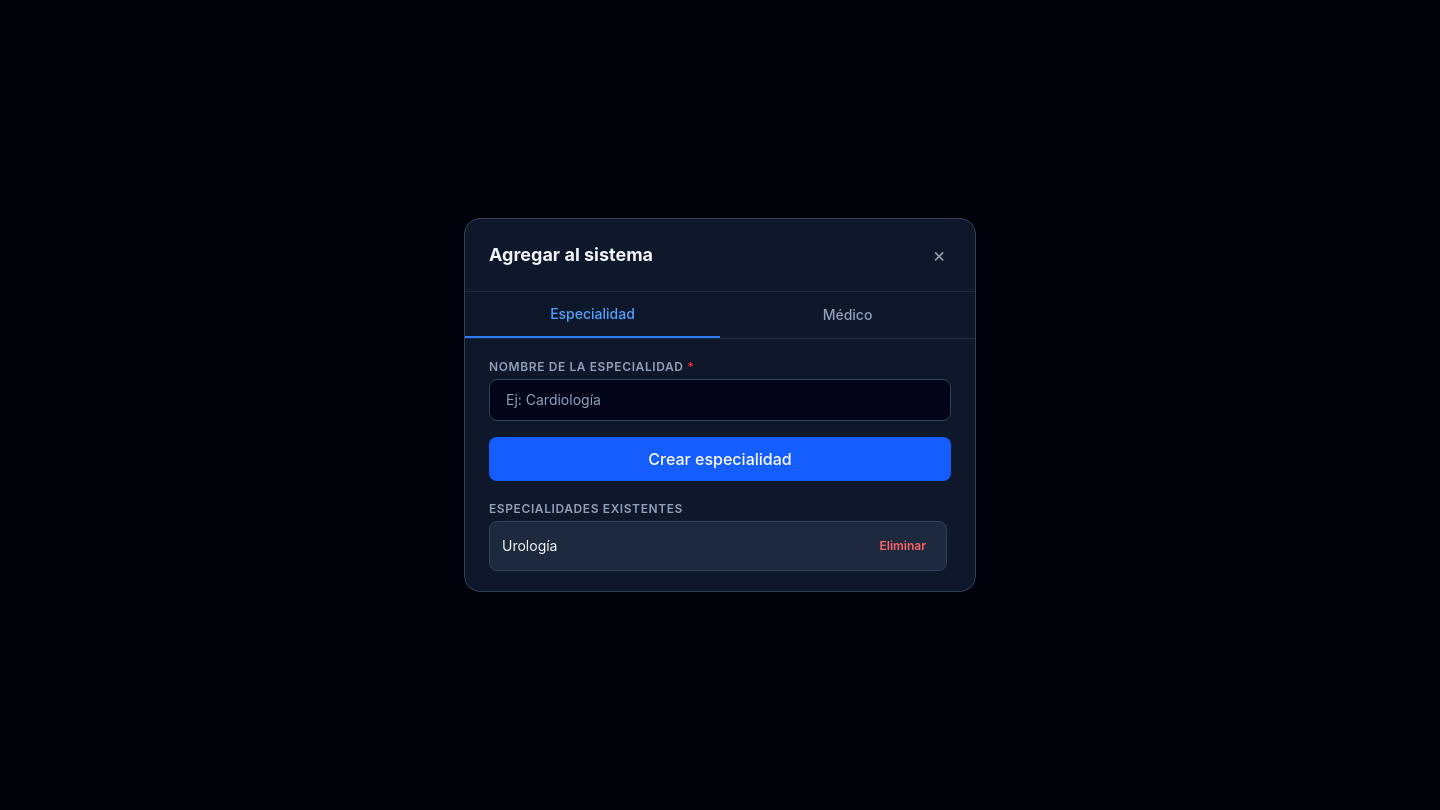
Test: alta de especialidades › un solo médico afectado se redacta en singular
This screenshot has width=1440, height=810.
Click the button "Eliminar": (903, 546) [872, 530, 934, 562]
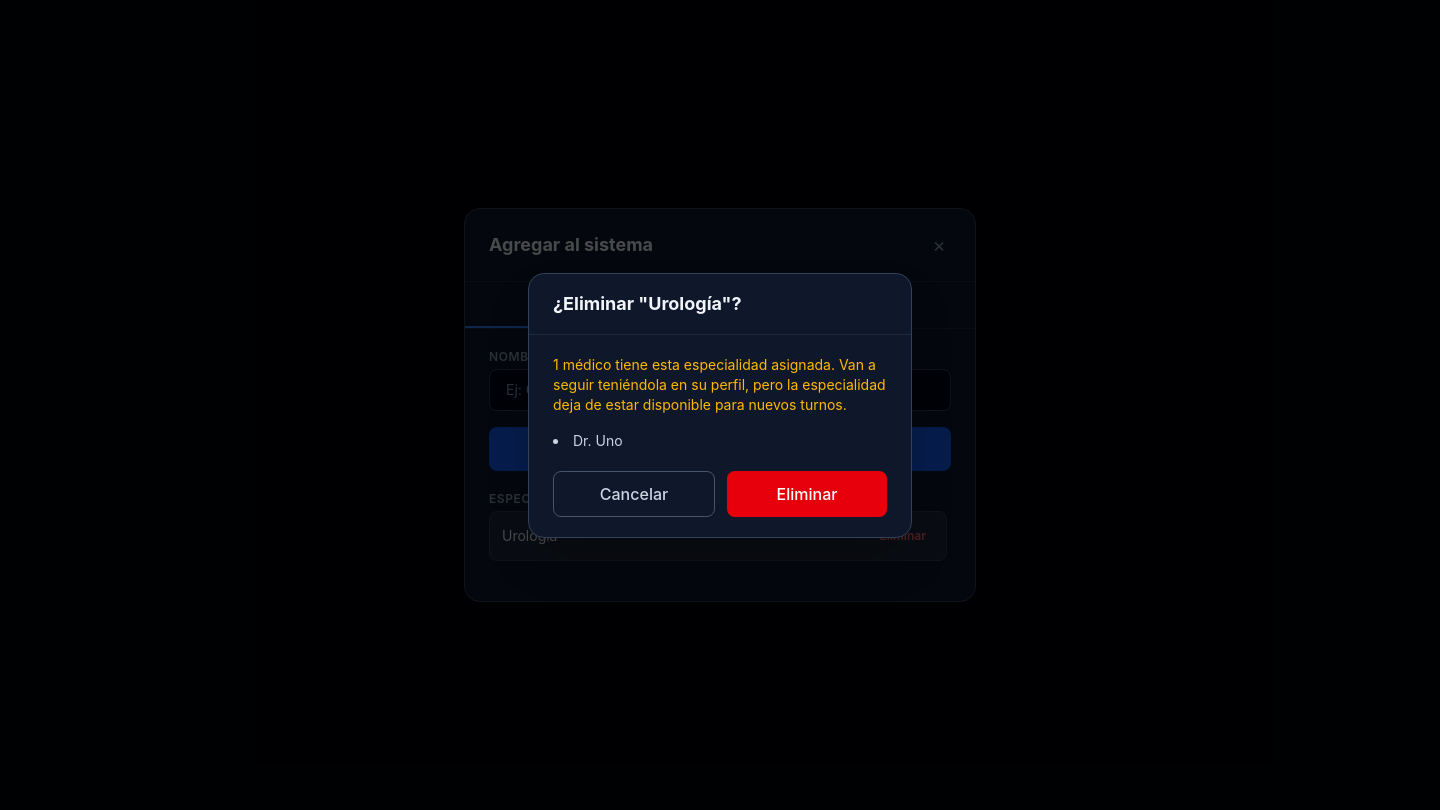
Now the text "1 médico tiene esta especialidad asignada" is shown, box [553, 354, 887, 414]
